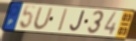3: (87, 10, 105, 35)
4: (103, 11, 118, 36)
5: (19, 5, 37, 31)
I: (57, 8, 69, 33)
J: (69, 10, 86, 33)
U: (33, 7, 54, 31)
